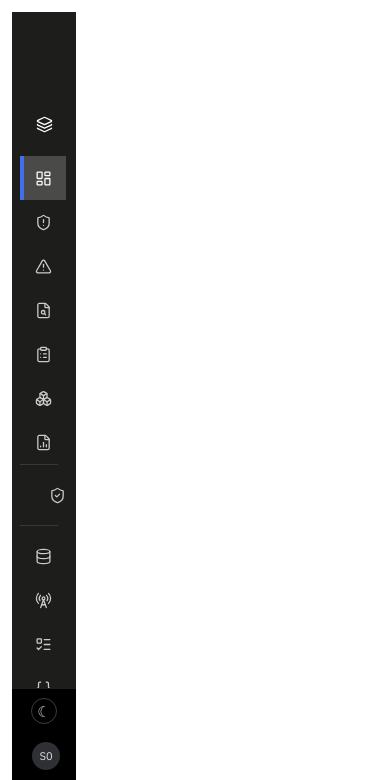
security navigation scroll ownership › expands a collapsed sidebar before presenting the independently scrollable submenu
This screenshot has width=380, height=780.
What coordinates should you click on to do the following:
click the button titled "Средства защиты"
I would click on:
 (43, 495)
Its box is [20,473,66,517].
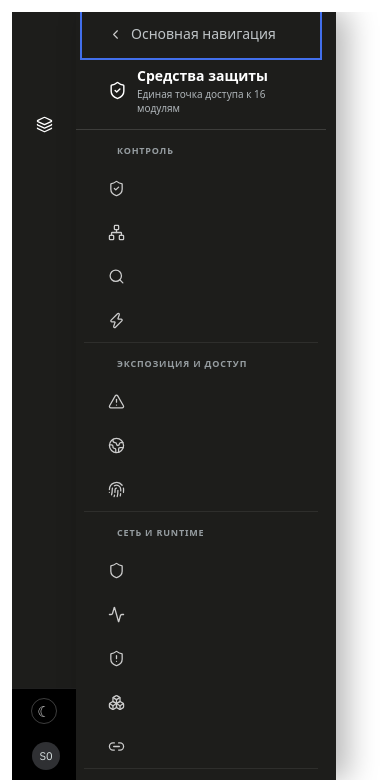
Check: the element with class "security-nav-subsection" is shown
